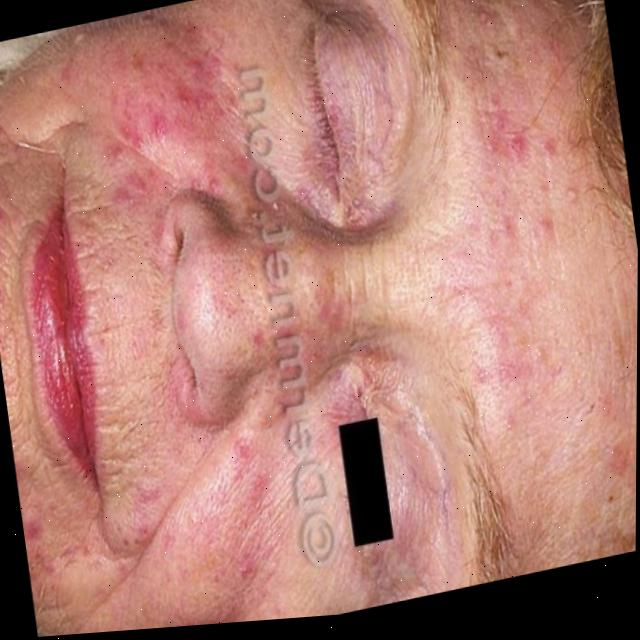Rosacea: (417, 0, 637, 518), (76, 0, 278, 271), (119, 412, 311, 631), (0, 122, 88, 590)
